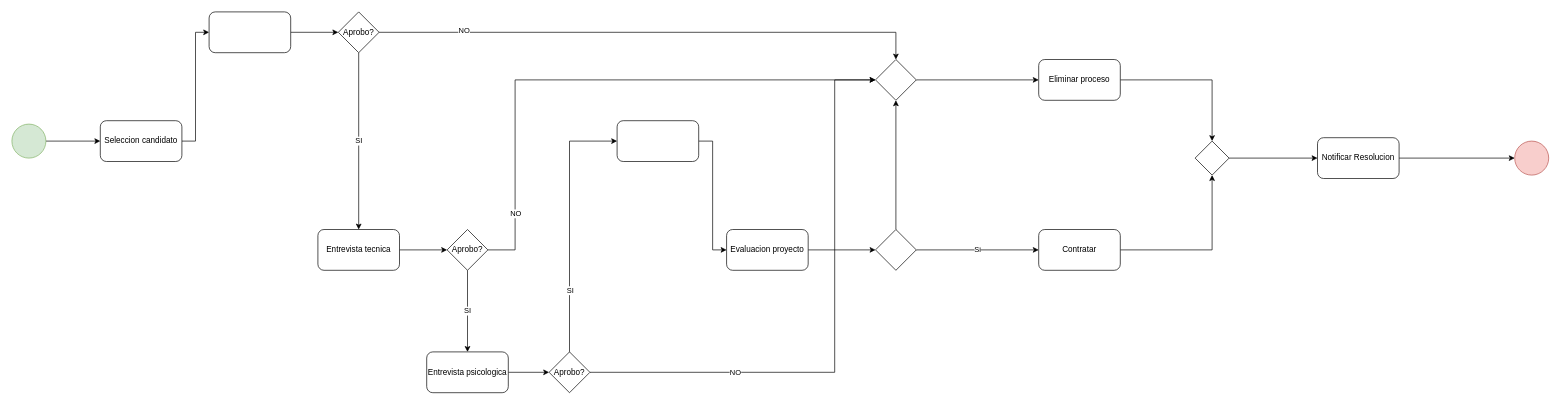
The diagram is 1561 pixels wide and 405 high, and some of its shapes have lost their labels. The shapes that lost their labels are listed below. From the top down, each one's box as (x1, y1, x2, y2) in pixels, then its label:
(208, 11, 291, 53): Entrevista introductoria
(875, 59, 916, 100): Unir negativa
(616, 120, 699, 162): Presentacion proyecto
(1194, 140, 1229, 175): Unir notificacion
(875, 229, 916, 270): Contratar?
